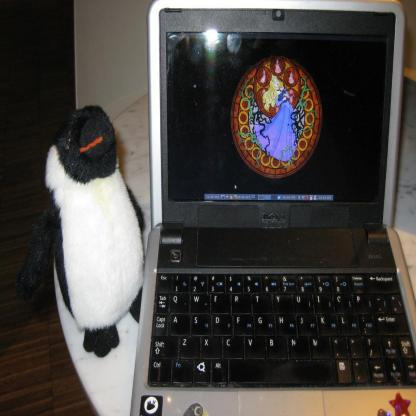board: (130, 1, 416, 416)
